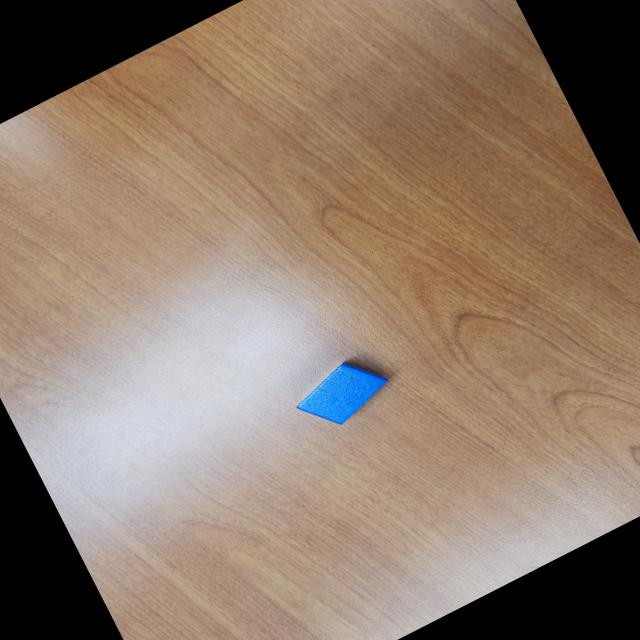blue: (288, 348, 398, 440)
